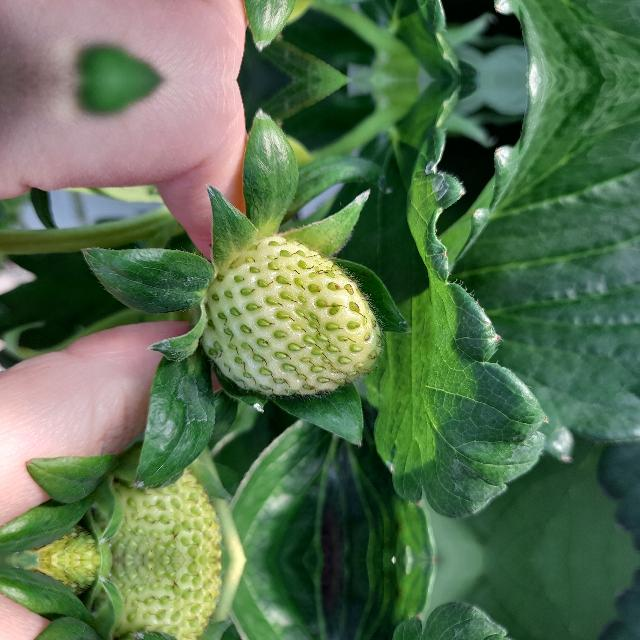Health_25: (200, 235, 382, 395), (87, 457, 227, 559), (87, 561, 227, 640)
